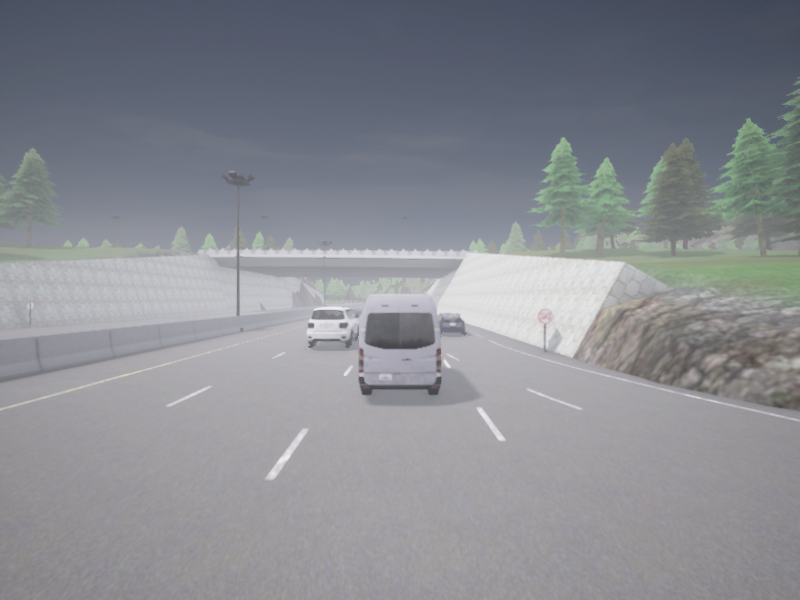vehicle: (358, 294, 442, 394), (307, 307, 358, 347), (437, 313, 465, 334), (350, 307, 361, 314)
